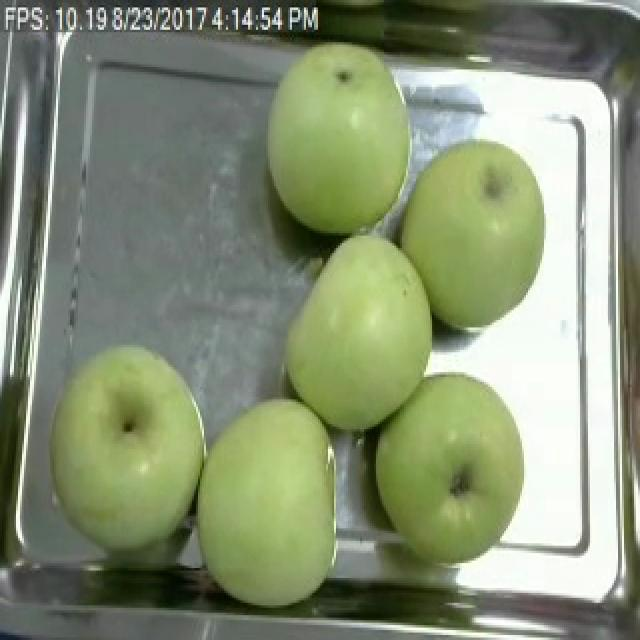50-_ripeness: (194, 378, 343, 622), (242, 40, 420, 244), (273, 223, 435, 439), (370, 366, 535, 574), (58, 323, 202, 561), (414, 115, 560, 329)
